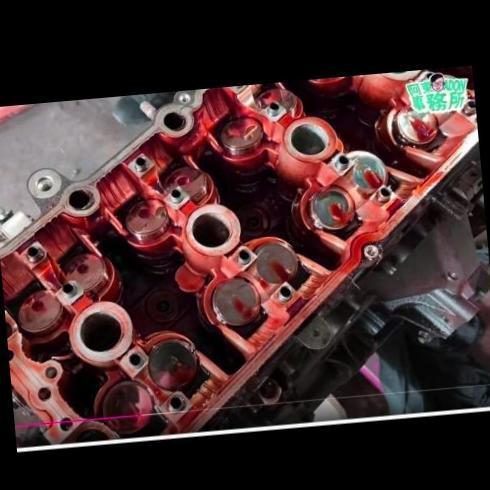hole: (34, 386, 55, 404), (359, 243, 380, 260), (35, 174, 54, 192), (43, 364, 57, 381), (175, 90, 190, 103), (448, 268, 458, 282), (8, 348, 15, 362)
